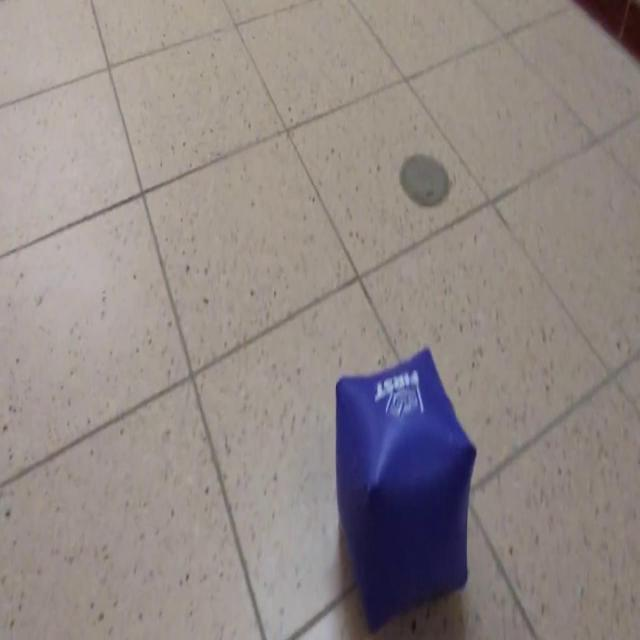frc_cube: (334, 346, 476, 637)
